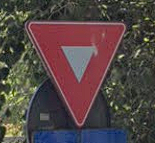cedeaza: (22, 18, 137, 127)
